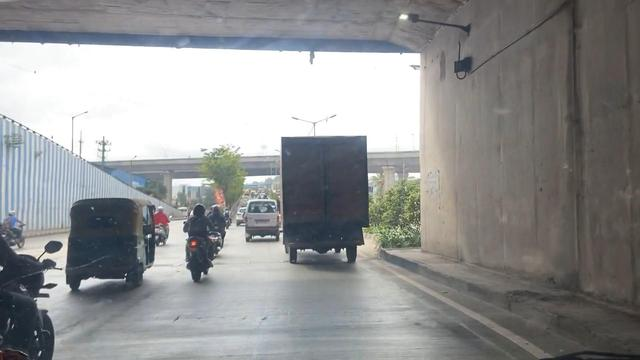HMV: (280, 137, 366, 260)
LMV: (68, 200, 159, 290), (187, 201, 214, 275), (248, 197, 274, 242)
